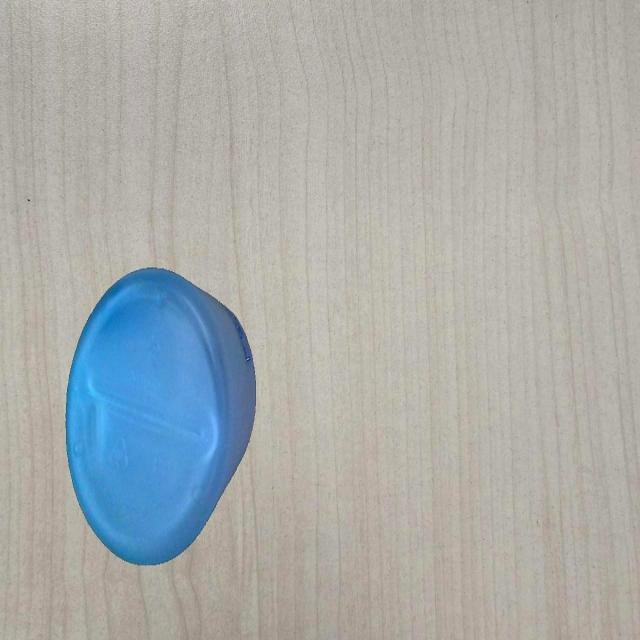bottle: (65, 264, 257, 570)
